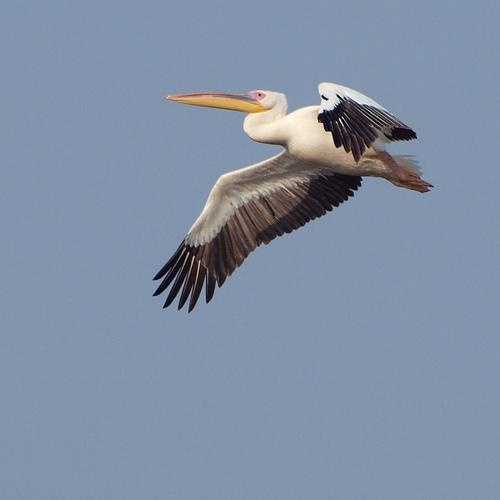bird: (140, 70, 432, 312)
